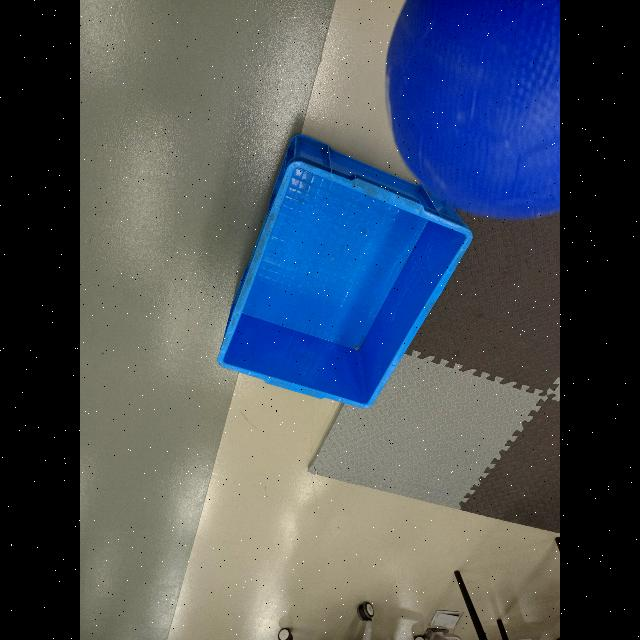B: (384, 0, 560, 222)
